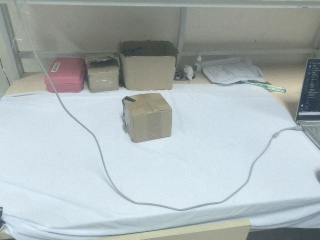box: (117, 39, 177, 92), (121, 93, 173, 143), (43, 56, 86, 93), (84, 52, 121, 93)
